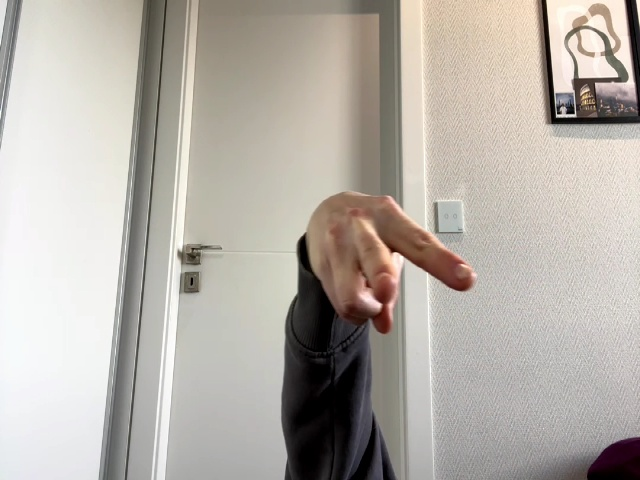U: (307, 191, 476, 335)
